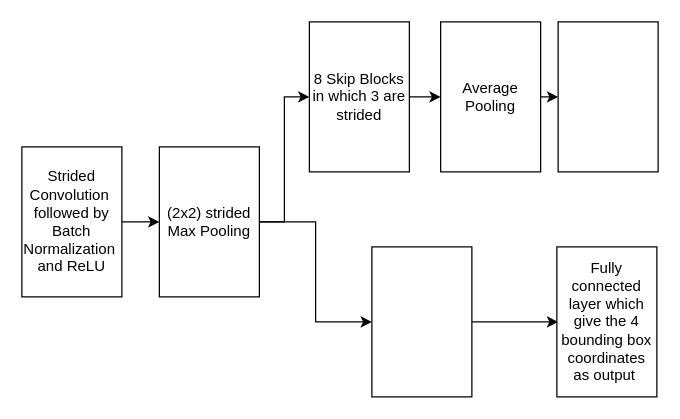
This 680x419 diagram has some shape labels left out. The centre of each missing label's shape, as x and y in pixels:
"5 convolutional layers with ReLU" goes at (421,321).
"Fully connected layer which gives class as output" goes at (607,96).
